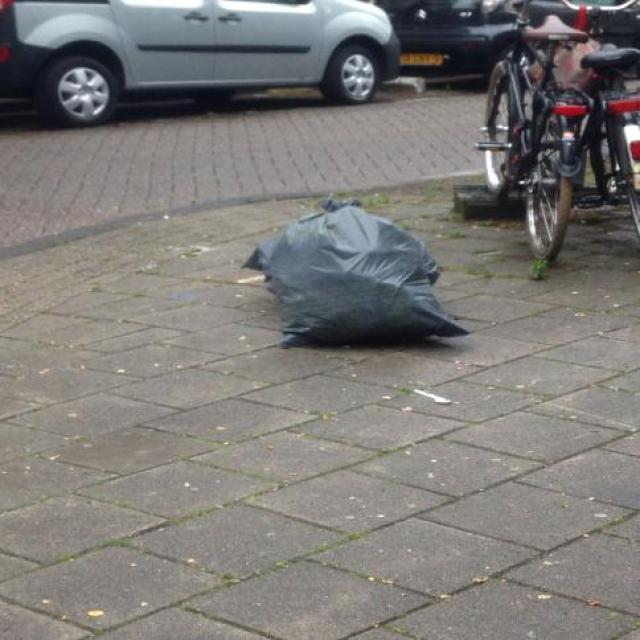Anorganik: (275, 194, 439, 358)
